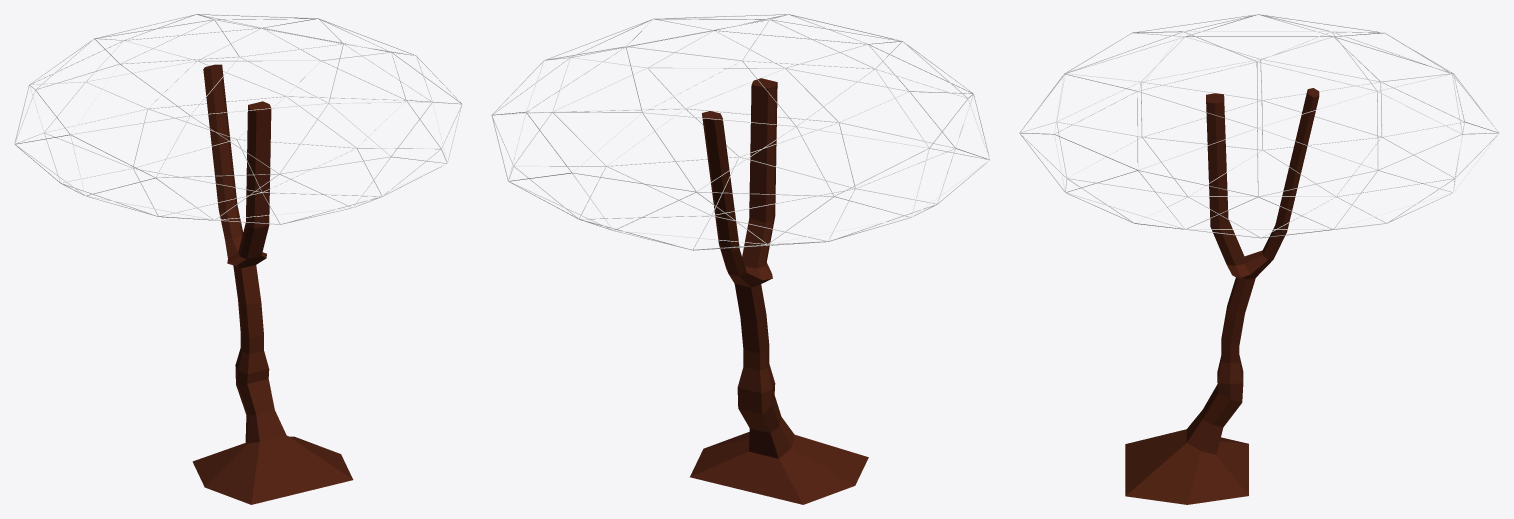
File: tree7.glb
3 views of the same model, side by side, from view 1: azimuth 30°, elevation 25°; view 2: azimuth 150°, elevation 25°; view 3: azimuth 270°, elevation 25° (orthographic). The views are drawn at different scales.
Visible parts, largest first — view 1: Cube.001, Icosphere; view 2: Cube.001, Icosphere; view 3: Cube.001, Icosphere.
Part boxes in pixels (x1,y1,x2,y2): Cube.001: (192, 64, 353, 504); Icosphere: (14, 14, 462, 224); Cube.001: (690, 78, 868, 504); Icosphere: (491, 14, 990, 250); Cube.001: (1125, 88, 1319, 504); Icosphere: (1019, 14, 1499, 238).
Bounding box in the file's own units: 1.92 × 1.9 × 2.02.
